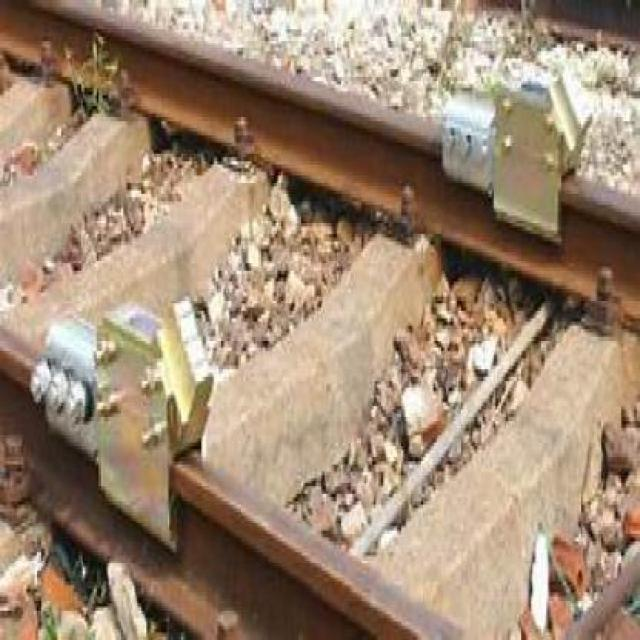defective: (14, 222, 223, 556), (417, 38, 629, 326)
